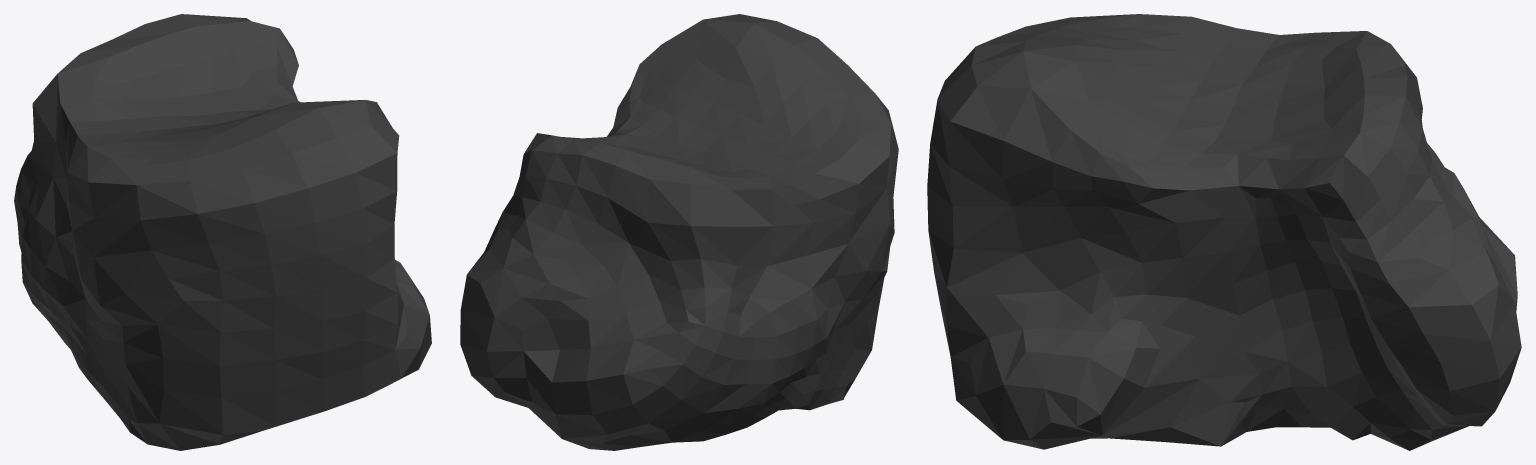
Rendered from Radial_carpal_L.glb.
3 renders of one model, left to right at view 1: azimuth 30°, elevation 25°; view 2: azimuth 150°, elevation 25°; view 3: azimuth 270°, elevation 25°, orthographic. The views are drawn at different scales.
Visible parts, largest first — view 1: Radial_carpal_L; view 2: Radial_carpal_L; view 3: Radial_carpal_L.
Part boxes in pixels (x1,y1,x2,y2): Radial_carpal_L: [14, 14, 431, 450]; Radial_carpal_L: [460, 14, 898, 450]; Radial_carpal_L: [927, 14, 1521, 450].
Bounding box in the file's own units: 0.0516 × 0.053 × 0.0712.
Materials: 1 (1 with a texture image).
